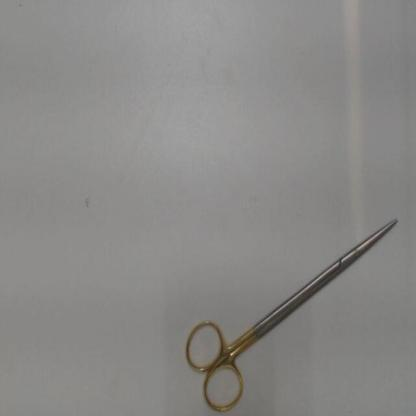7 Metzenbaum Scissors: (180, 215, 400, 415)
